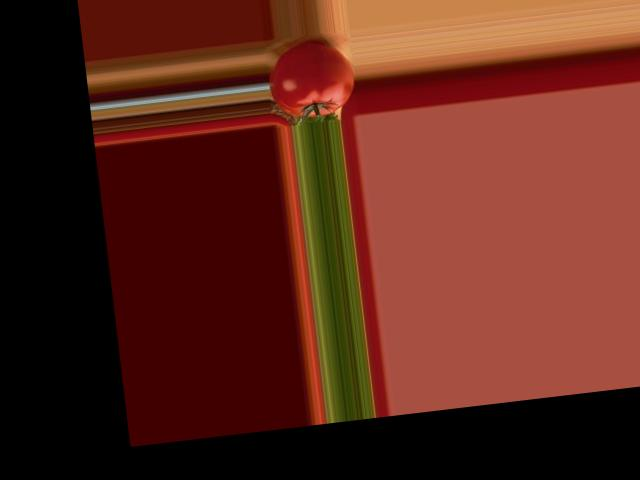tomato: (265, 38, 358, 121)
